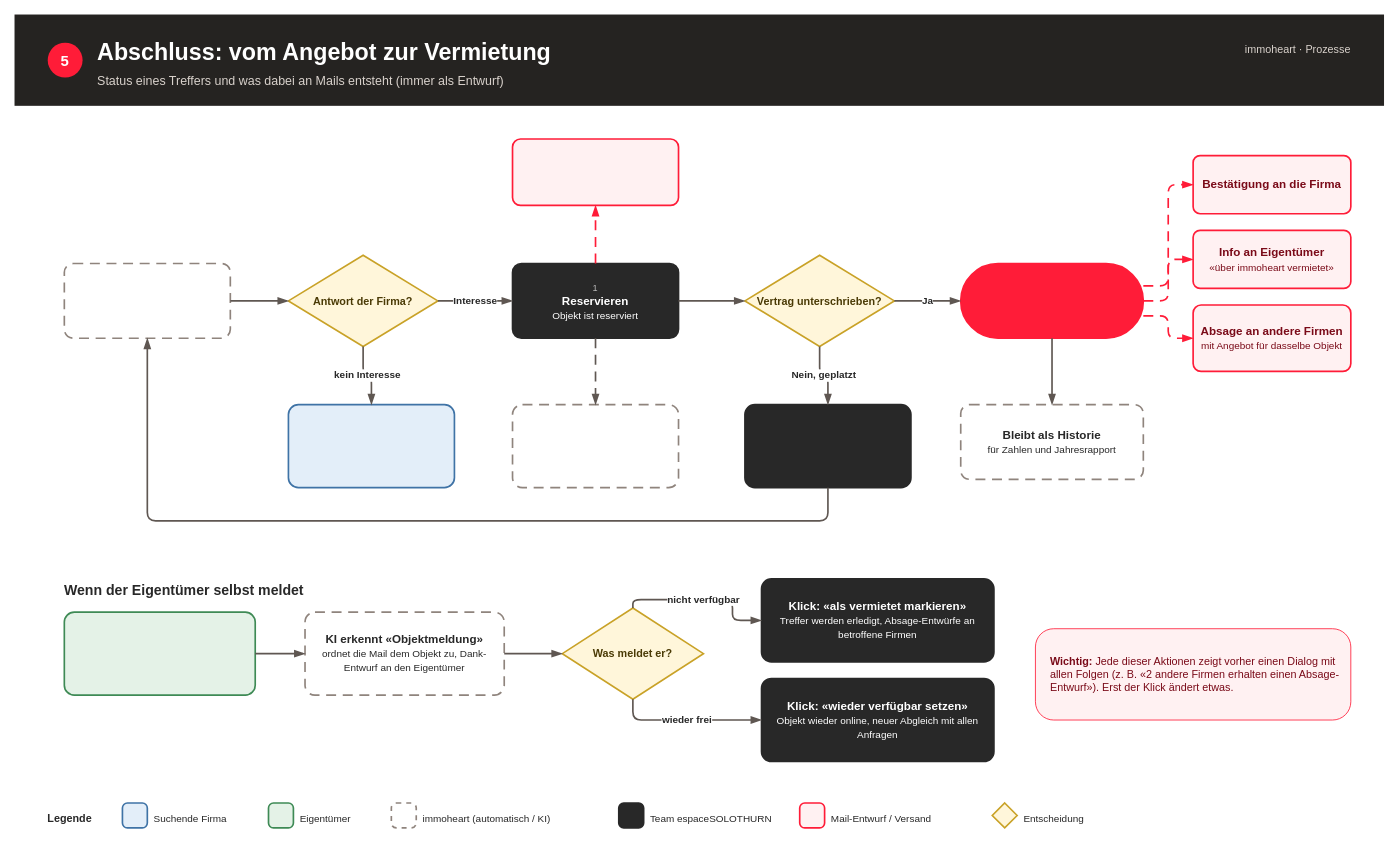
Image size: 1398x842. Some labels were removed from this diagram. The box of each missing label's shape, as (x1, y1, x2, y2) in pixels:
Abgelehnt Firma hat kein Interesse. Die KI erkennt das in der Antwort: (287, 403, 455, 488)
Andere Firmen mit Angebot bekommen noch KEINE Absage, nur ein Hinweis im Admin: (511, 403, 679, 488)
Angeboten Firma hat das Angebot erhalten: (63, 262, 231, 339)
Info an Eigentümer «Ihre Fläche ist reserviert»: (511, 138, 679, 206)
Mail vom Eigentümer «Die Fläche ist nicht mehr verfügbar» oder «wieder frei»: (63, 611, 256, 696)
Reservierung aufheben Objekt wieder verfügbar, Treffer wieder «Angeboten»: (744, 403, 911, 488)
Vermittelt Objekt vermietet, Anfrage abgeschlossen: (959, 262, 1144, 339)
